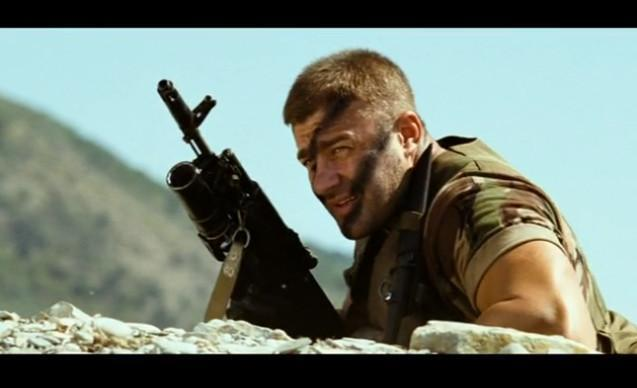gun: (133, 55, 362, 337)
